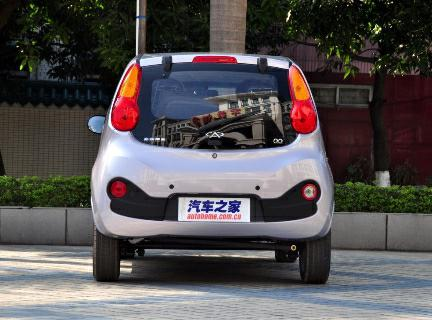奇瑞-QQ: (82, 45, 341, 289)
